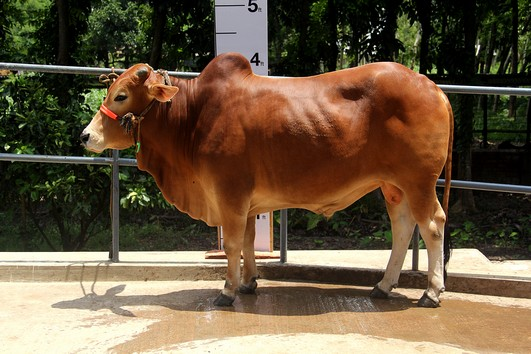cow: (72, 45, 461, 313)
